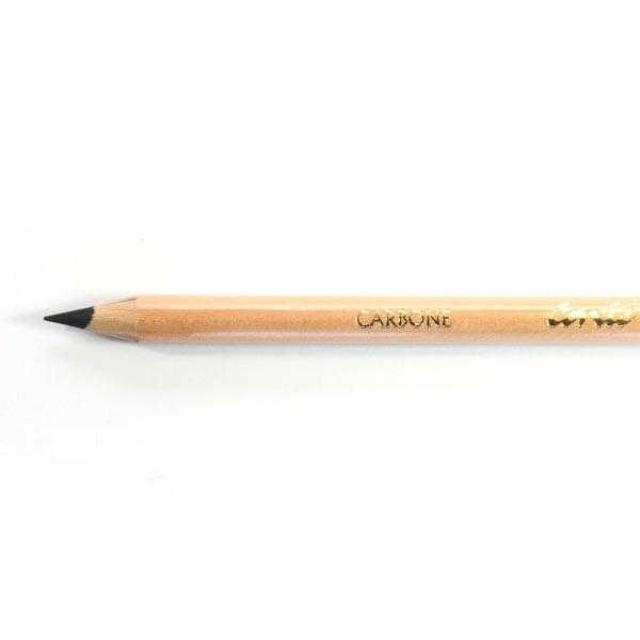pencil: (19, 260, 639, 374)
